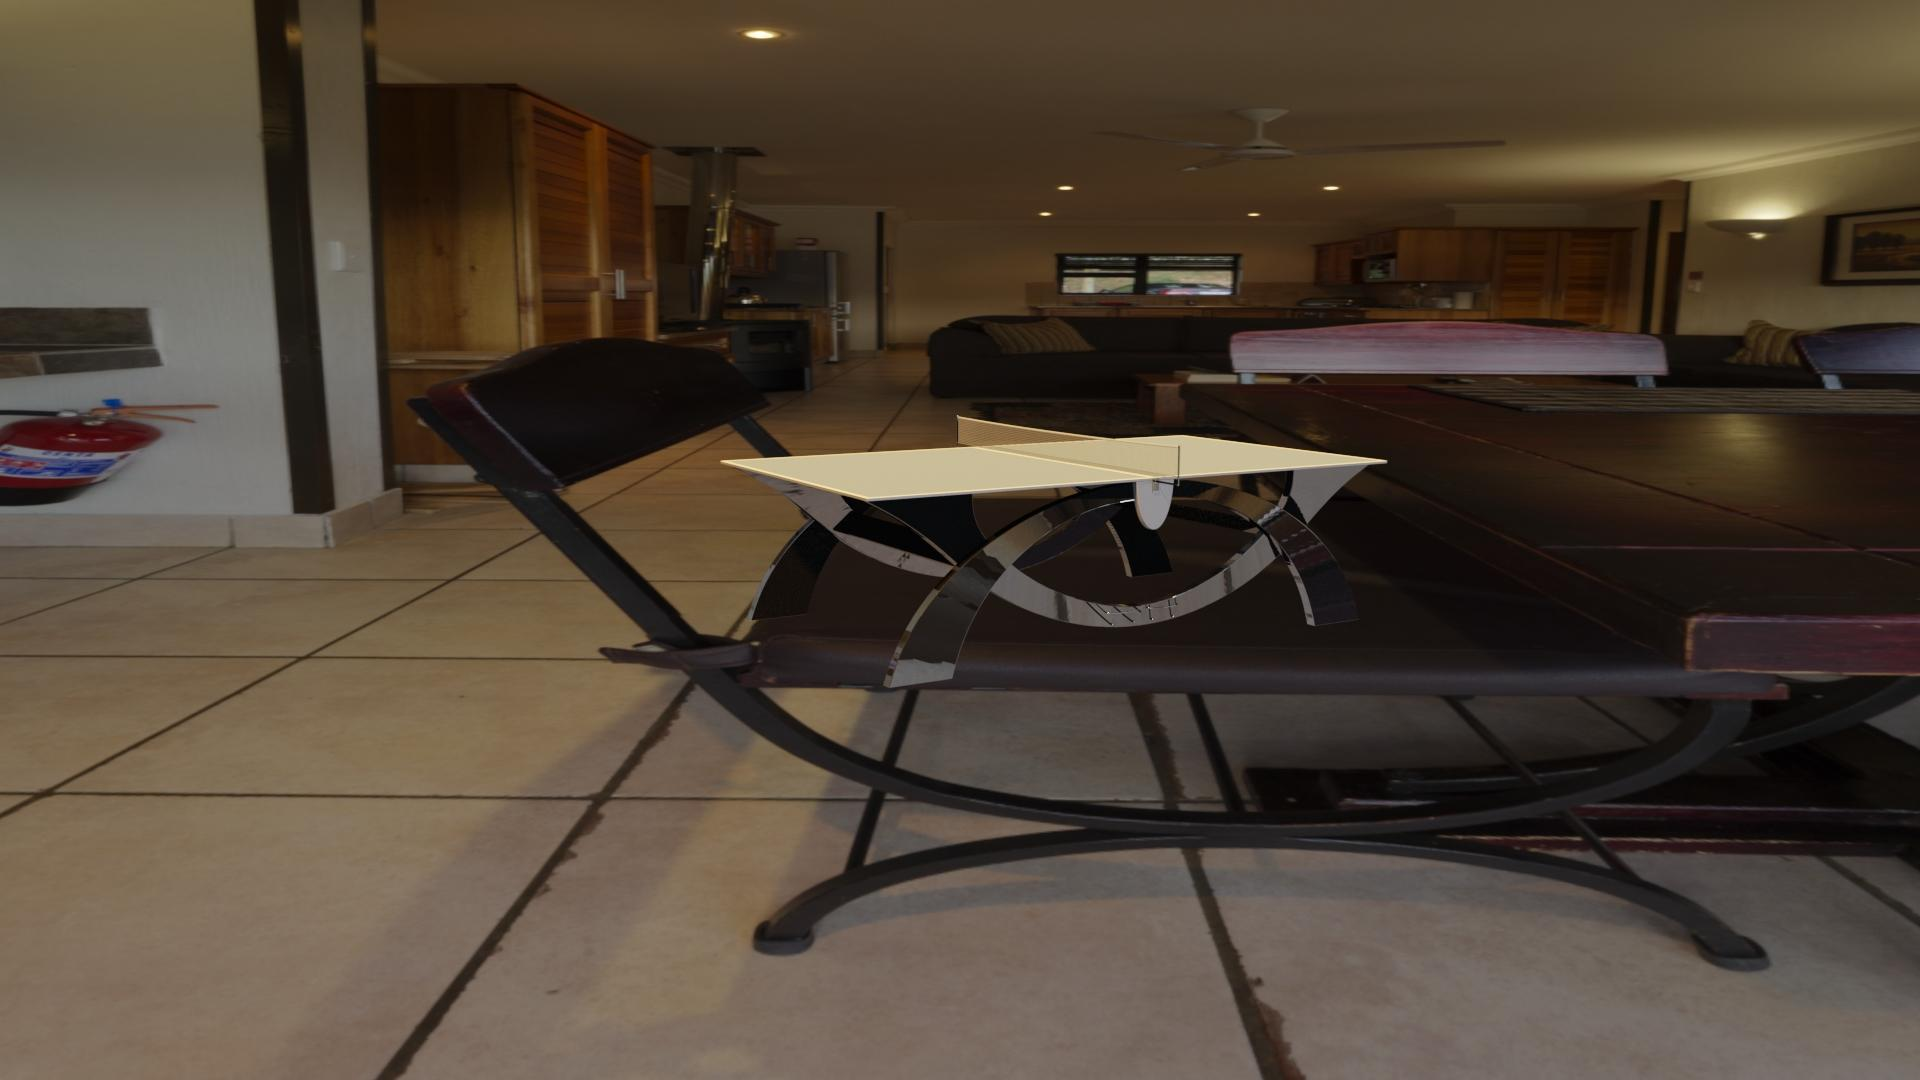table: (727, 436, 1381, 497)
